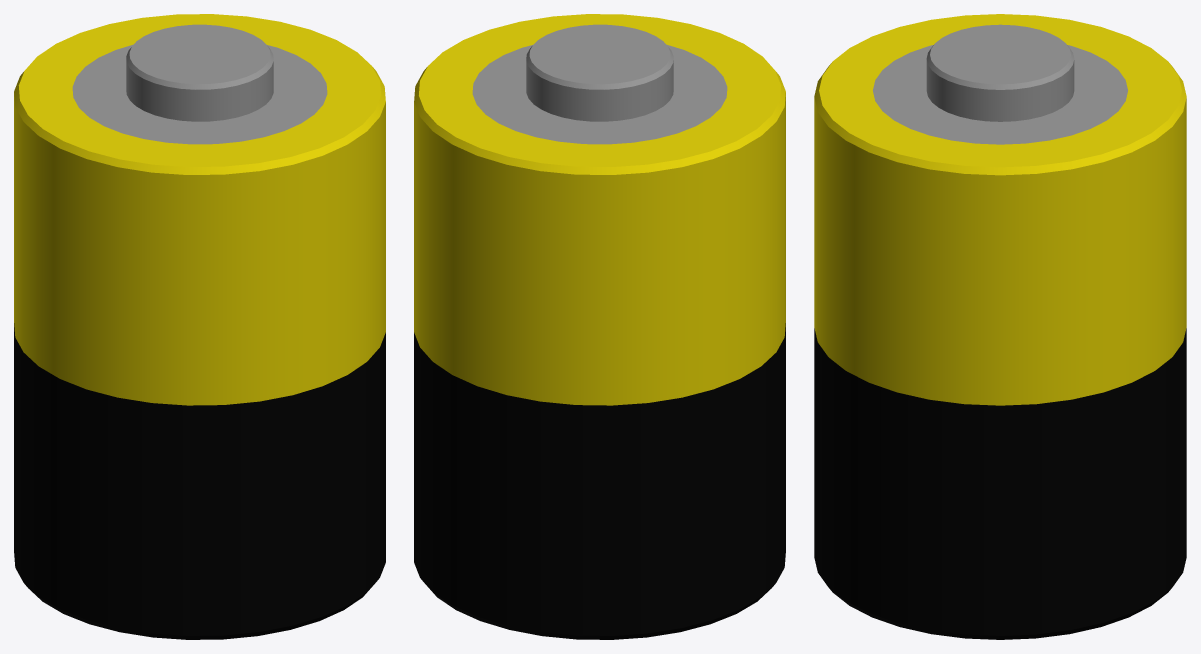
The model's file is battery2.fbx.
3 views of the same model, side by side, from view 1: azimuth 30°, elevation 25°; view 2: azimuth 150°, elevation 25°; view 3: azimuth 270°, elevation 25° (orthographic).
Visible parts, largest first — view 1: Cylinder; view 2: Cylinder; view 3: Cylinder.
Part boxes in pixels (box(x1,y1,x2,y2)): Cylinder: box(14, 14, 385, 639); Cylinder: box(414, 14, 785, 639); Cylinder: box(814, 14, 1186, 639).
Size of the model in its own units: 143 by 217 by 143.
